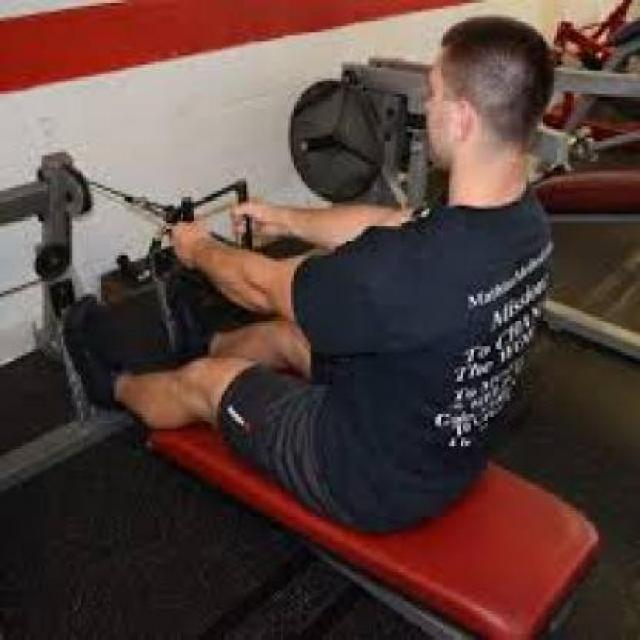Seated Cable Rows: (0, 12, 605, 640)
